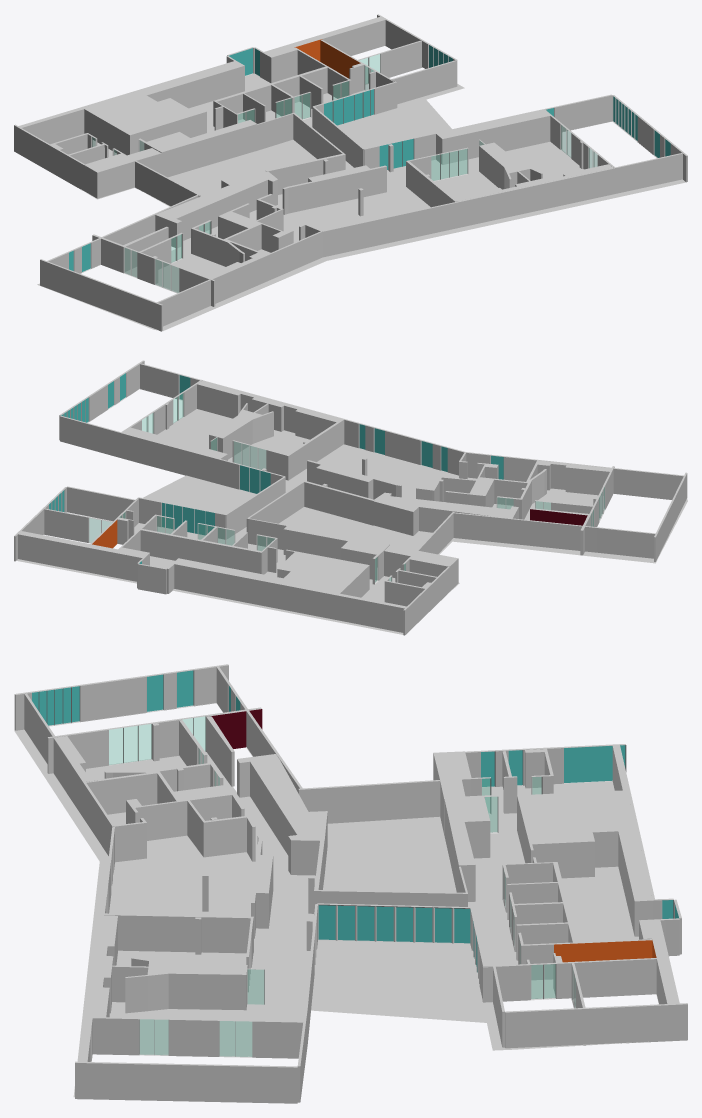
File: 3rdFloor.FBX
3 renders of one model, top to bottom at view 1: azimuth 30°, elevation 25°; view 2: azimuth 150°, elevation 25°; view 3: azimuth 270°, elevation 25°, orthographic. The views are drawn at different scales.
Parts seen in each view (by area): view 1: 3rdFloor, Object403, Object383, Object373, Object375, Object405, Object361, Object393, Object391, Object397, Object407, Object381 (+23 smaller); view 2: 3rdFloor, Object415, Object399, Object409, Object375, Object403, Object383, Object397, Object393, Object446, Object405, Object361 (+27 smaller); view 3: 3rdFloor, Object383, Object373, Object401, Object407, Object369, Object425, Object375, Object379, Object361, Object395, Object357 (+24 smaller).
Part boxes in pixels (bbox=[...]): 3rdFloor: bbox=[37, 73, 685, 331]; Object403: bbox=[322, 153, 682, 257]; Object383: bbox=[20, 59, 244, 155]; Object373: bbox=[435, 109, 615, 169]; Object375: bbox=[213, 66, 351, 130]; Object405: bbox=[157, 231, 322, 326]; Object361: bbox=[155, 171, 277, 247]; Object393: bbox=[313, 60, 457, 125]; Object391: bbox=[138, 120, 257, 177]; Object397: bbox=[256, 113, 345, 194]; Object407: bbox=[40, 259, 162, 331]; Object381: bbox=[260, 17, 385, 82]; 3rdFloor: bbox=[16, 389, 687, 634]; Object415: bbox=[173, 563, 405, 632]; Object399: bbox=[60, 415, 285, 493]; Object409: bbox=[453, 512, 655, 558]; Object375: bbox=[140, 514, 277, 574]; Object403: bbox=[140, 363, 464, 475]; Object383: bbox=[171, 549, 406, 607]; Object397: bbox=[246, 480, 374, 549]; Object393: bbox=[67, 486, 225, 539]; Object446: bbox=[197, 381, 341, 439]; Object405: bbox=[466, 452, 683, 499]; Object361: bbox=[372, 492, 518, 535]; 3rdFloor: bbox=[14, 703, 658, 1097]; Object383: bbox=[517, 745, 661, 936]; Object373: bbox=[90, 950, 312, 1058]; Object401: bbox=[75, 1061, 297, 1103]; Object407: bbox=[14, 664, 228, 730]; Object369: bbox=[112, 957, 264, 1013]; Object425: bbox=[505, 1003, 687, 1048]; Object375: bbox=[502, 857, 577, 980]; Object379: bbox=[482, 953, 656, 1002]; Object361: bbox=[237, 754, 327, 875]; Object395: bbox=[317, 903, 472, 943]; Object357: bbox=[47, 707, 262, 773].
Size of the model in its own units: 6699 by 309 by 4718.
